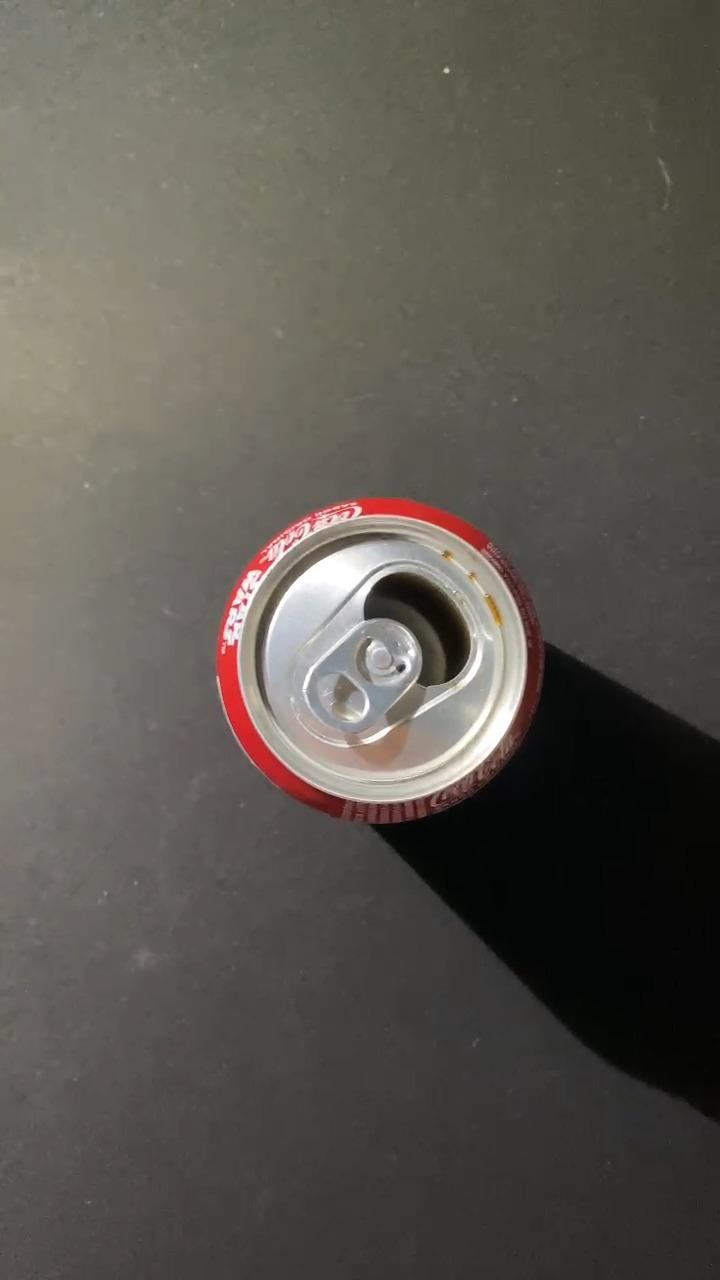coke: (208, 498, 544, 821)
